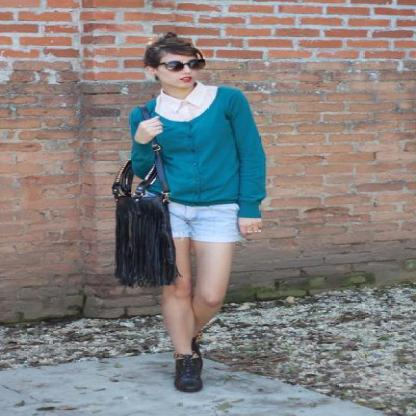bag: (114, 160, 178, 288)
shirt: (129, 81, 265, 224)
shoe: (174, 358, 202, 392)
shorts: (168, 200, 260, 242)
sunglass: (158, 51, 205, 72)
